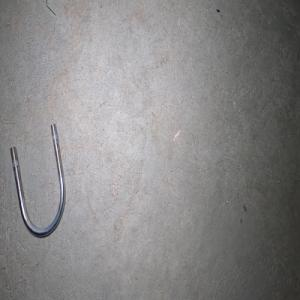ClampPart: (9, 122, 66, 238)
